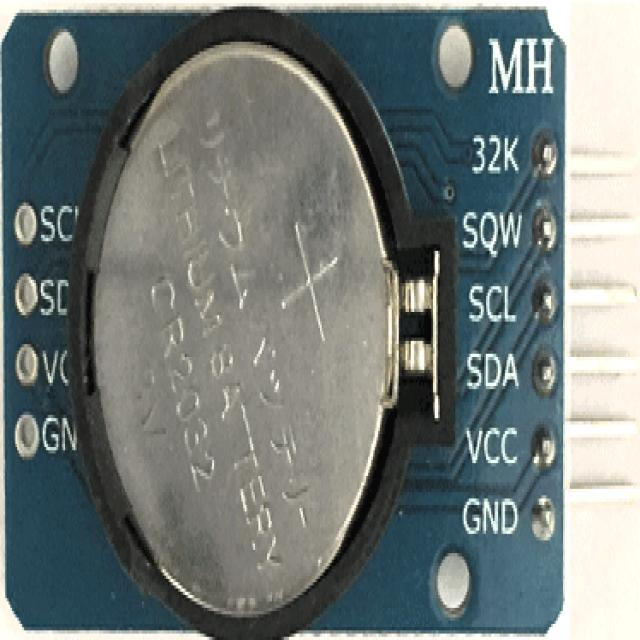battery: (90, 14, 411, 612)
